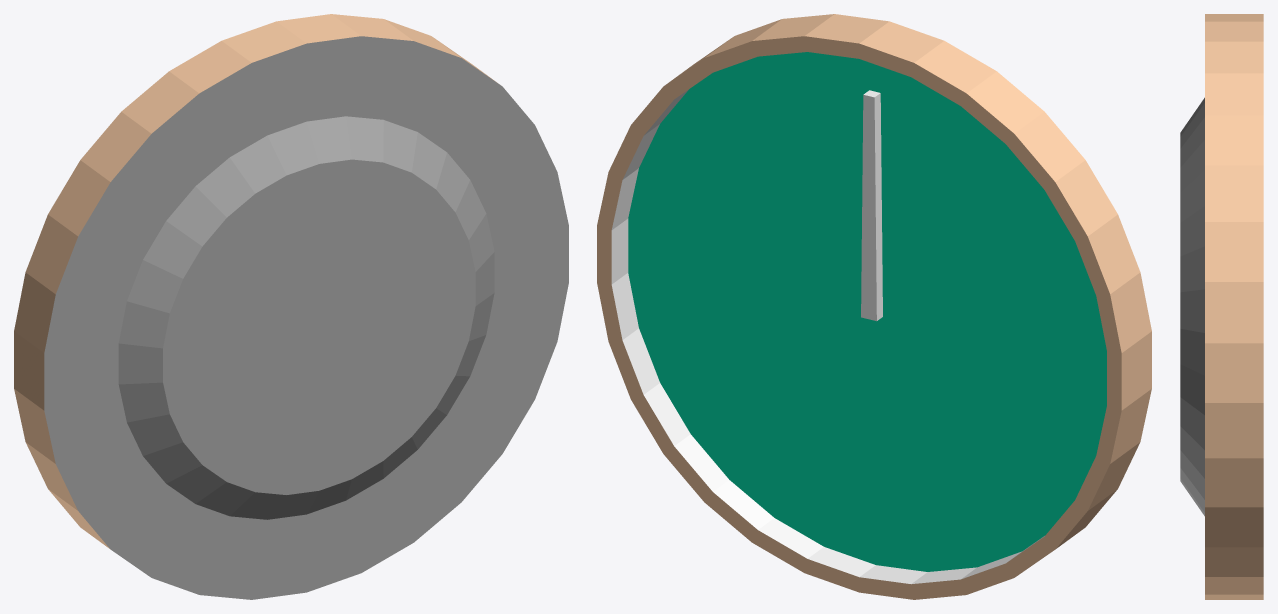
Rendered from Wall Clock.fbx.
3 renders of one model, left to right at view 1: azimuth 30°, elevation 25°; view 2: azimuth 150°, elevation 25°; view 3: azimuth 270°, elevation 25°, orthographic. The views are drawn at different scales.
Visible parts, largest first — view 1: Wall Clock; view 2: Wall Clock, Clock Hand; view 3: Wall Clock.
Boxes of the visible parts, x1,y1,x2,y2 form: Wall Clock: (14,14,568,599); Wall Clock: (597,14,1151,599); Clock Hand: (861,90,882,321); Wall Clock: (1180,14,1263,599).
Bounding box in the file's own units: 0.254 × 0.254 × 0.036.
